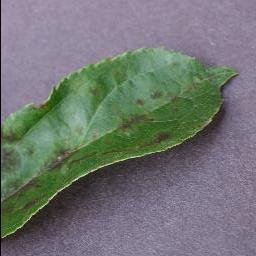apple healthy: (0, 44, 239, 238)
